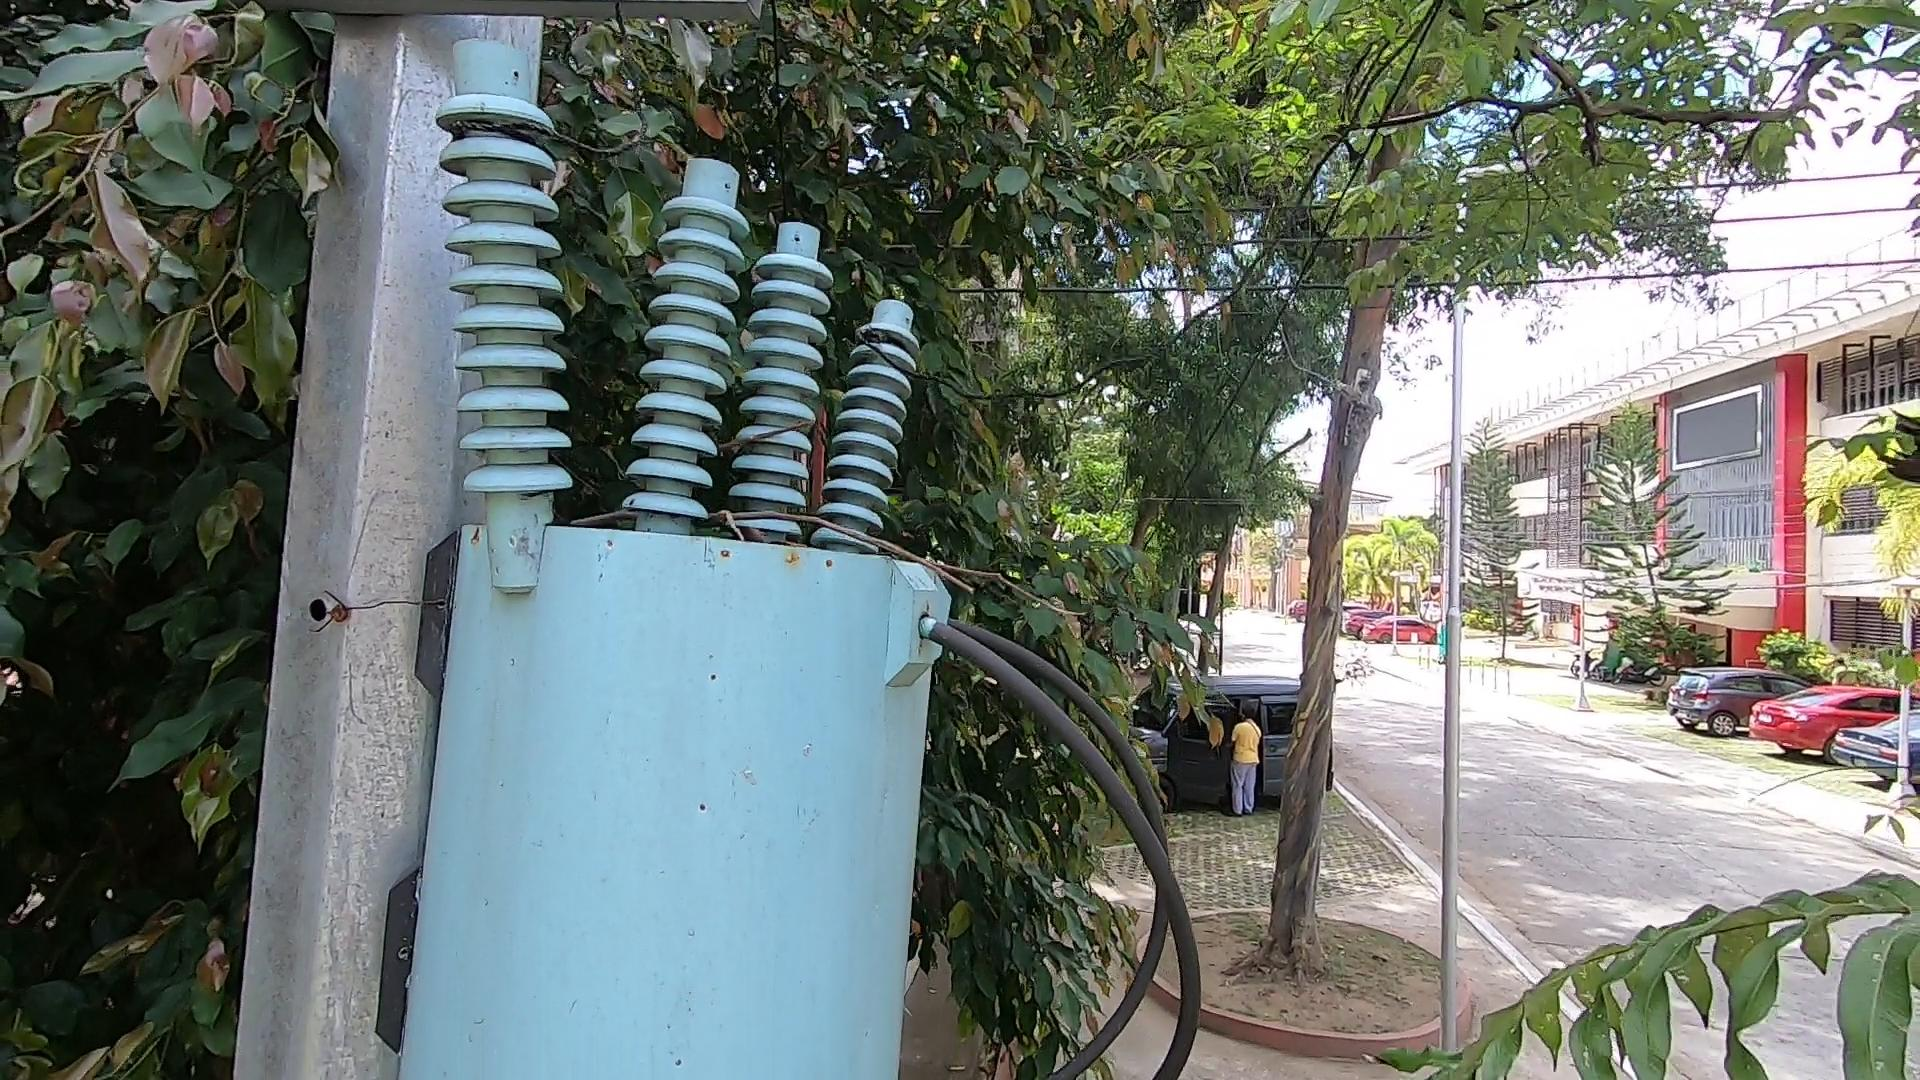leaf: (699, 502, 774, 549)
tree branch: (545, 464, 1098, 625)
